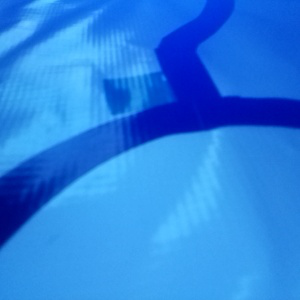top_left: (104, 72, 209, 132)
